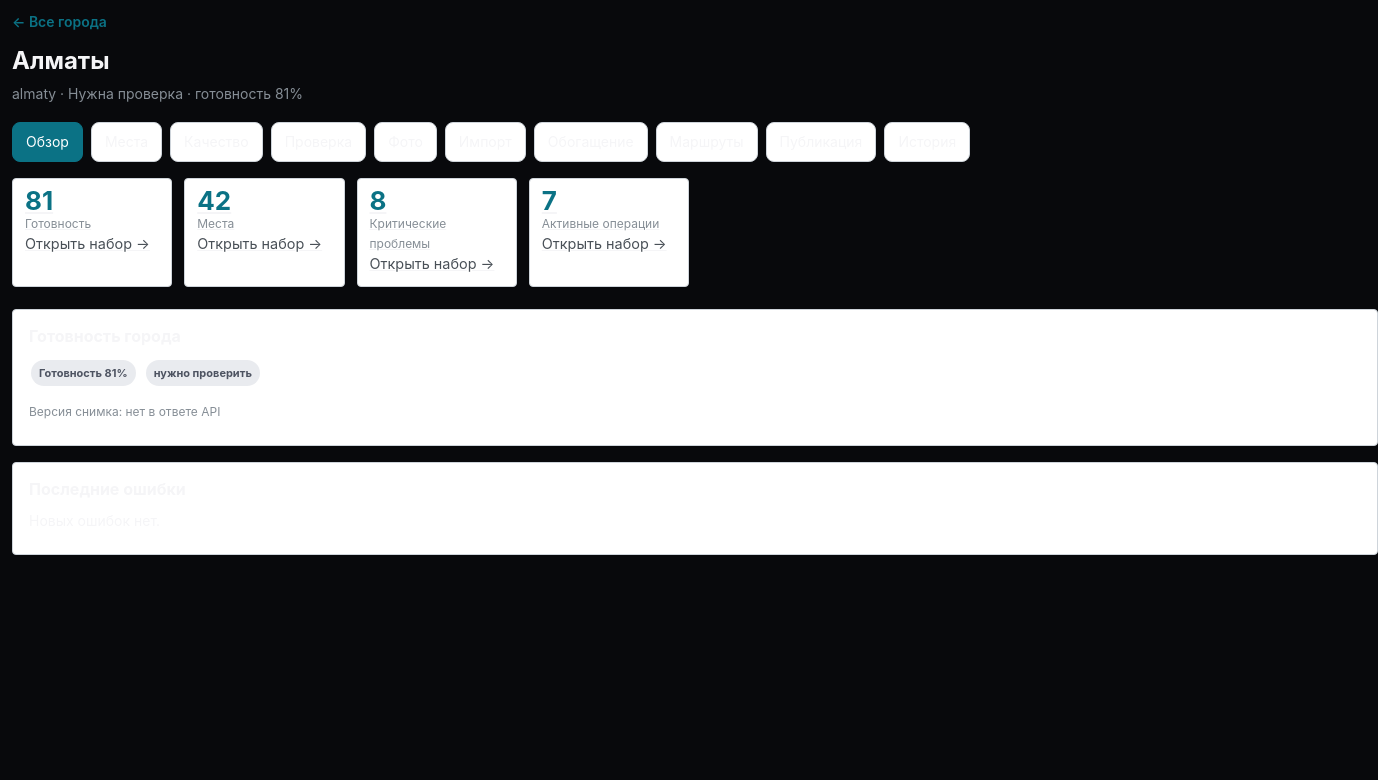
Test case: AdminCityWorkspacePage › shows city operation workspace from backend payload_new
Check: the heading "Алматы" is shown, box left=12, top=46, right=110, bottom=75
Check: the navigation bar named "Разделы города" is shown, box left=12, top=122, right=970, bottom=162
Click the button "Импорт": coordinates (485, 142) left=445, top=122, right=526, bottom=162
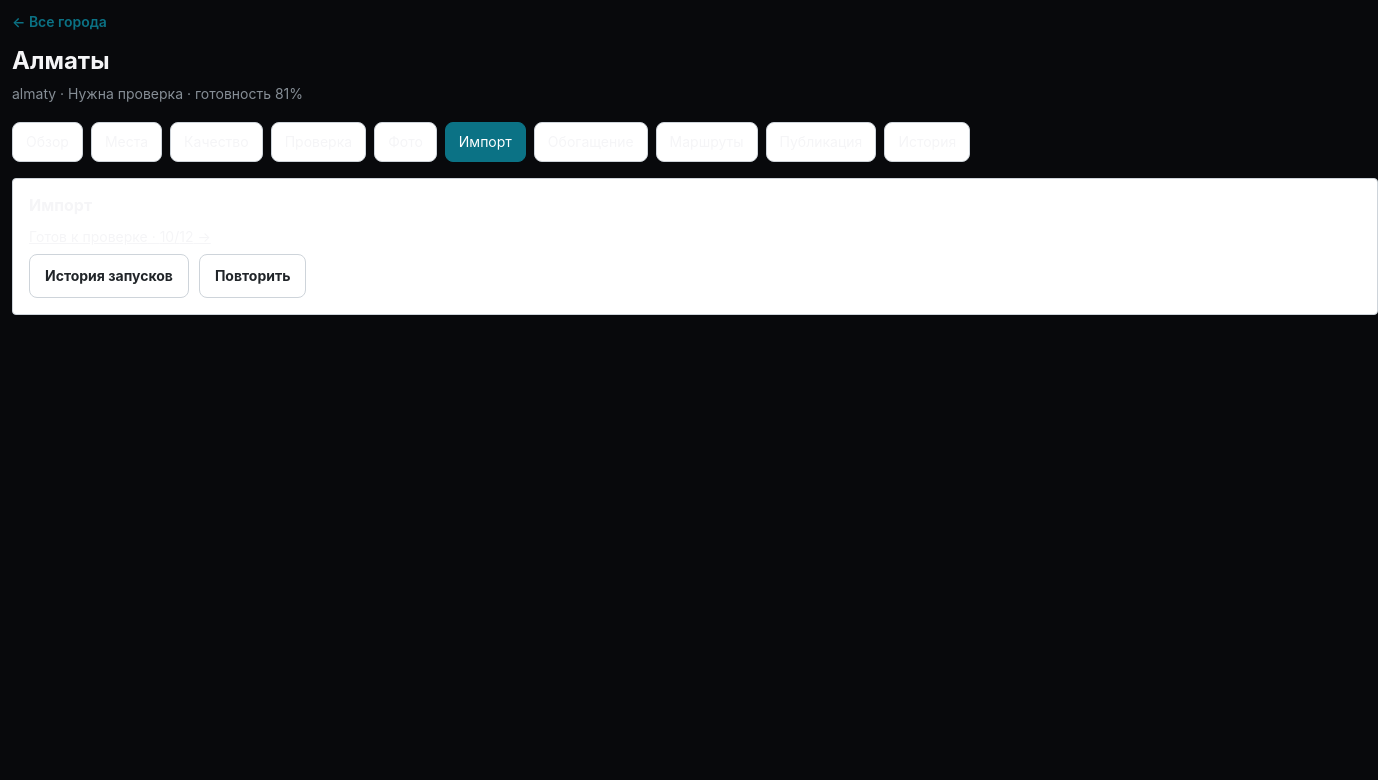
Check: the button "Повторить" is shown, box left=199, top=254, right=306, bottom=298
Click the button "Публикация": coordinates (821, 142) left=766, top=122, right=876, bottom=162
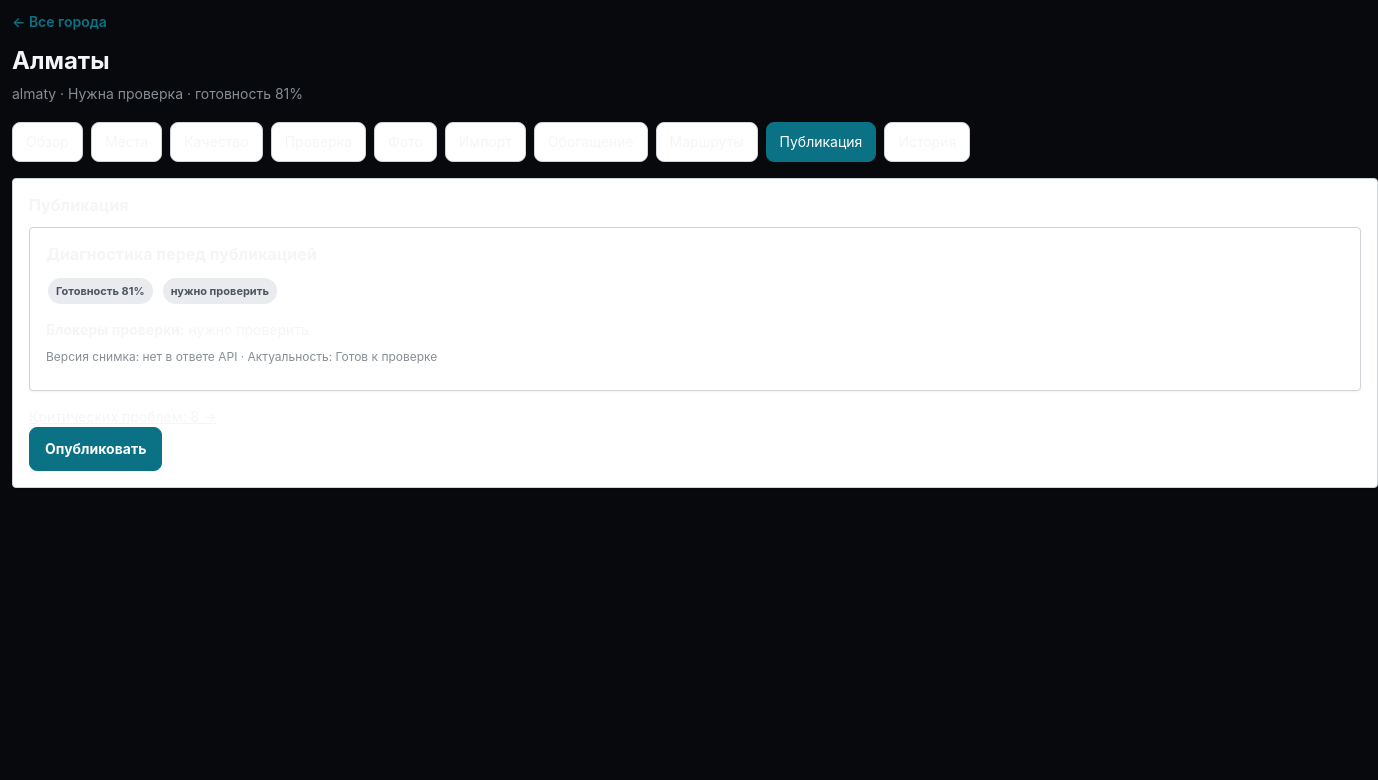
Check: the button "Опубликовать" is shown, box left=29, top=427, right=162, bottom=471
